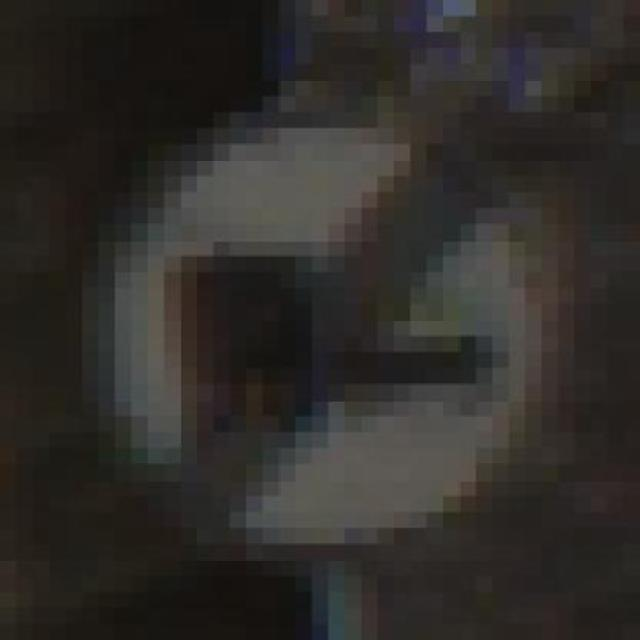Overtaking by trucks is prohibited: (48, 79, 574, 576)
